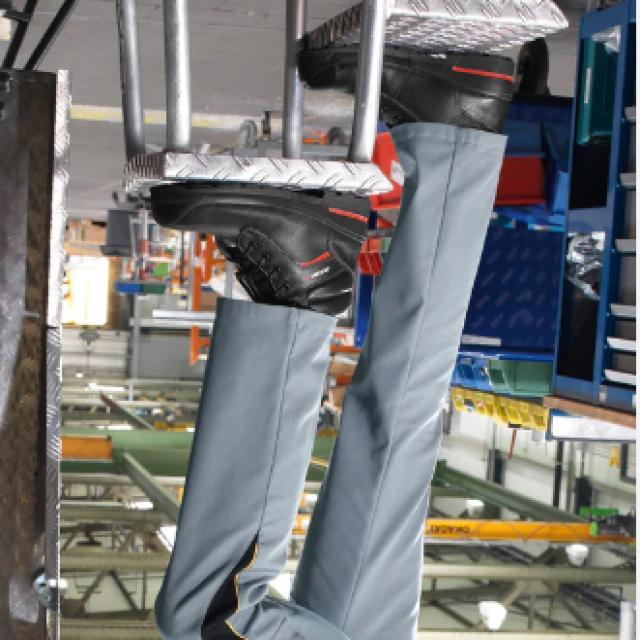shoes: (142, 37, 524, 321)
